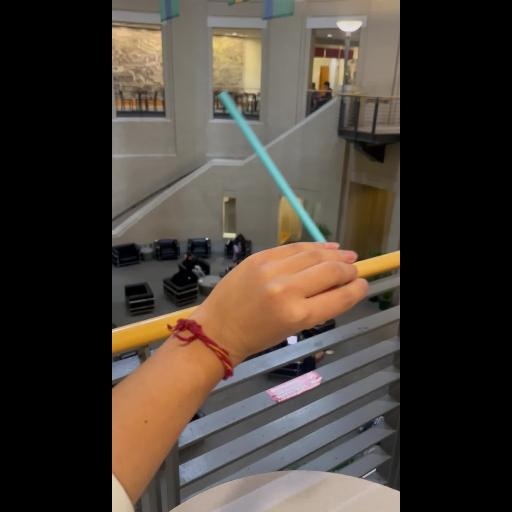straw: (215, 87, 335, 261)
